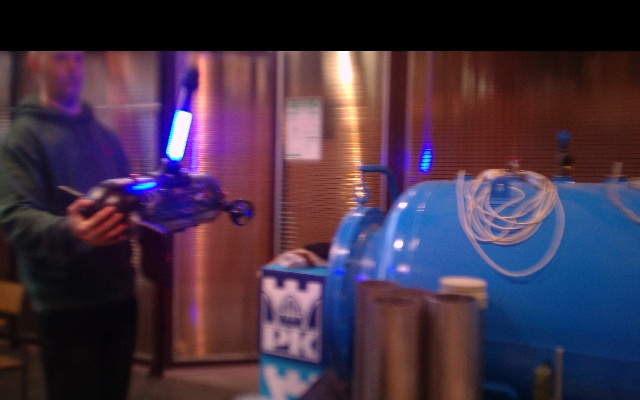blue: (165, 111, 191, 161)
